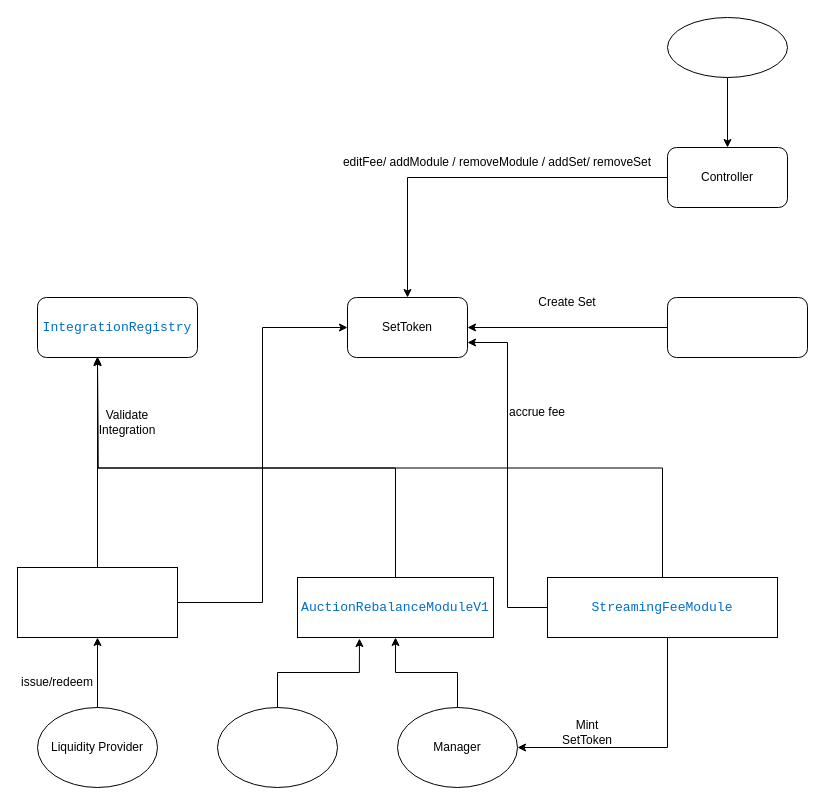
This 825x805 diagram has some shape labels left out. Here are the shapes that lost their labels. From the top down, the centre of each, then its label:
At (727,47): "Governance".
At (737,327): "SetTokenCreator".
At (97,602): "BasicIssuanceModule".
At (277,747): "Auction Bidders".
